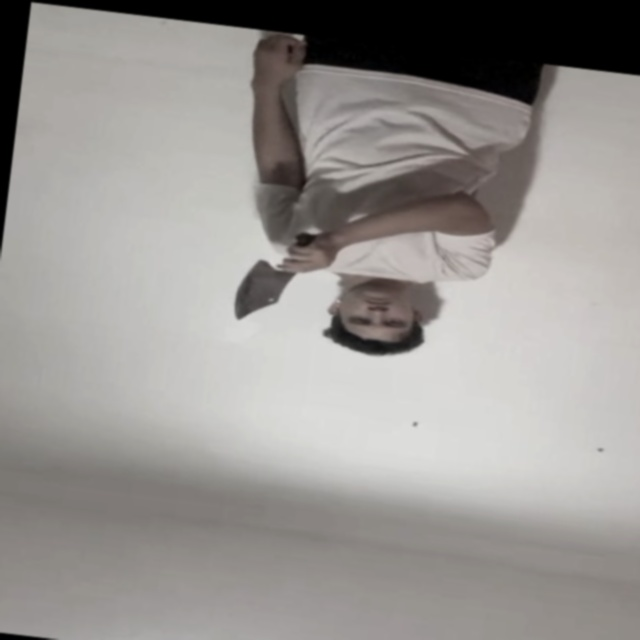Sharp-Object: (226, 257, 295, 327)
